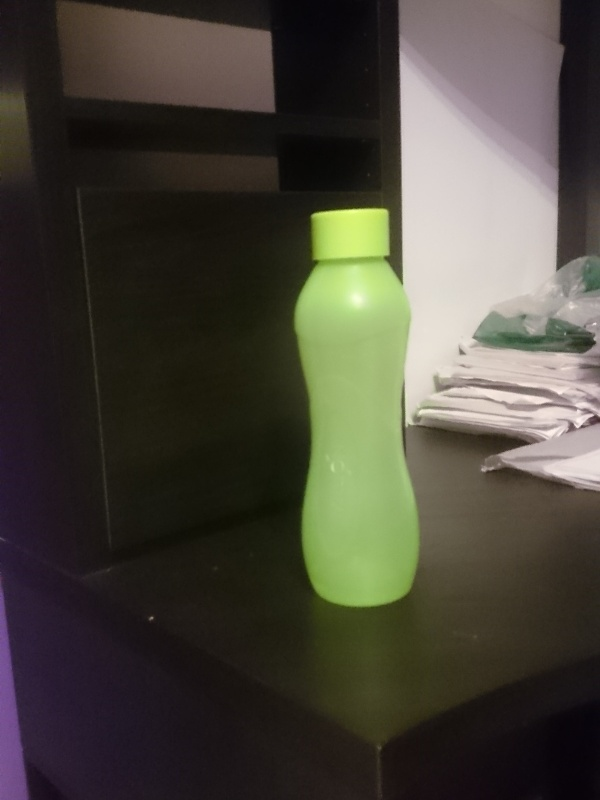my bottle: (292, 208, 419, 608)
